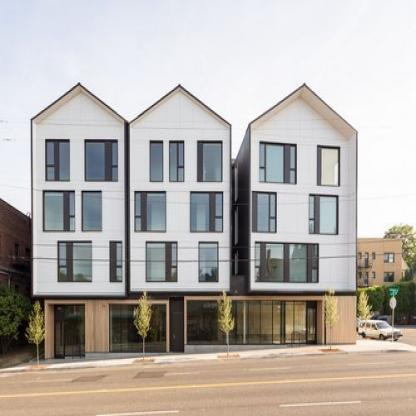Building Outline: (31, 82, 358, 363)
Door: (306, 301, 317, 344), (172, 313, 183, 352), (55, 317, 64, 358)
Facade: (31, 81, 358, 363)
Floor Slab: (33, 185, 230, 190), (33, 235, 230, 240), (33, 289, 230, 294), (251, 186, 356, 191), (251, 289, 356, 294), (251, 235, 356, 240)
Glass Wall: (187, 301, 305, 345), (110, 305, 166, 352), (64, 305, 85, 355)
Window: (250, 86, 356, 291), (130, 87, 230, 291), (32, 85, 125, 296), (86, 142, 105, 181), (73, 243, 92, 281), (83, 192, 102, 230), (44, 192, 63, 230), (190, 194, 209, 232), (147, 243, 166, 281), (265, 244, 284, 281), (147, 194, 166, 230), (203, 143, 221, 181), (266, 144, 284, 182), (200, 243, 217, 281), (321, 148, 338, 185), (290, 244, 306, 281), (320, 196, 336, 233), (257, 194, 269, 232), (151, 143, 162, 181), (59, 142, 69, 180), (170, 143, 177, 181), (59, 243, 67, 266), (47, 142, 54, 165), (216, 194, 222, 217), (312, 244, 318, 267), (113, 142, 118, 165), (69, 192, 74, 215), (117, 243, 122, 266), (136, 194, 141, 217), (178, 143, 183, 166), (172, 243, 177, 266), (256, 244, 261, 267), (271, 194, 276, 217), (59, 268, 67, 281), (261, 144, 265, 167), (47, 167, 54, 179), (291, 147, 295, 168), (310, 196, 314, 217), (216, 219, 222, 231), (312, 269, 318, 281), (113, 167, 118, 181), (178, 168, 183, 181), (117, 268, 122, 281), (172, 268, 177, 281), (136, 218, 141, 230), (69, 218, 74, 230), (256, 269, 261, 281), (271, 219, 276, 231), (261, 169, 265, 181), (310, 221, 314, 233), (291, 171, 295, 182)
